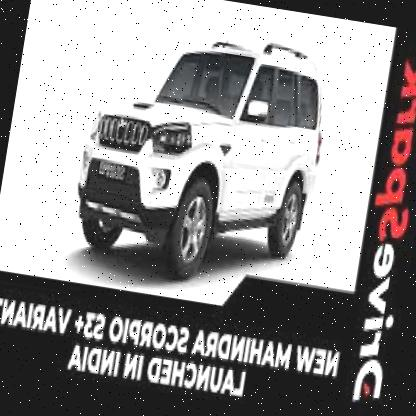car: (60, 7, 344, 300)
